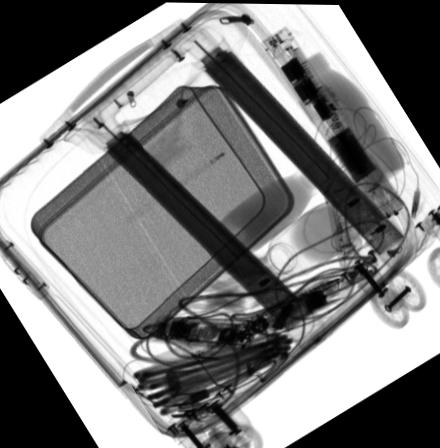Baton: (263, 24, 405, 220)
